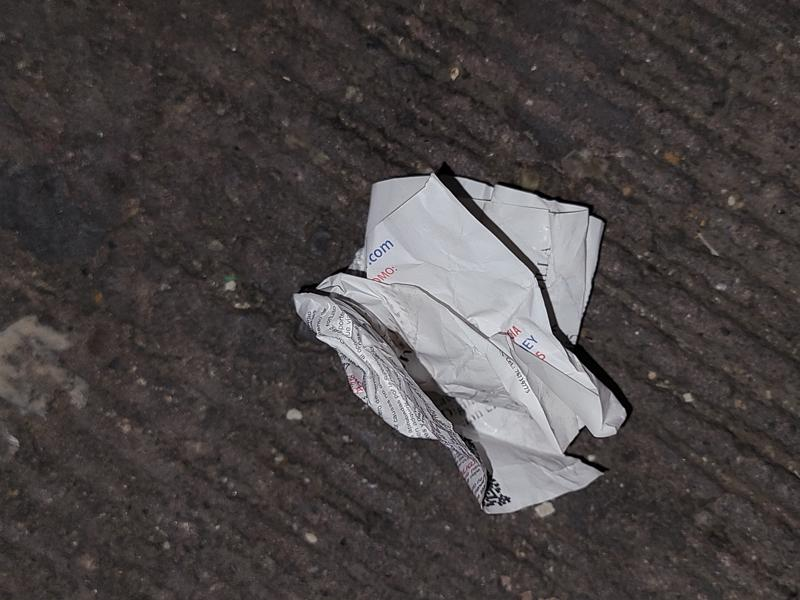papel: (292, 168, 632, 517)
